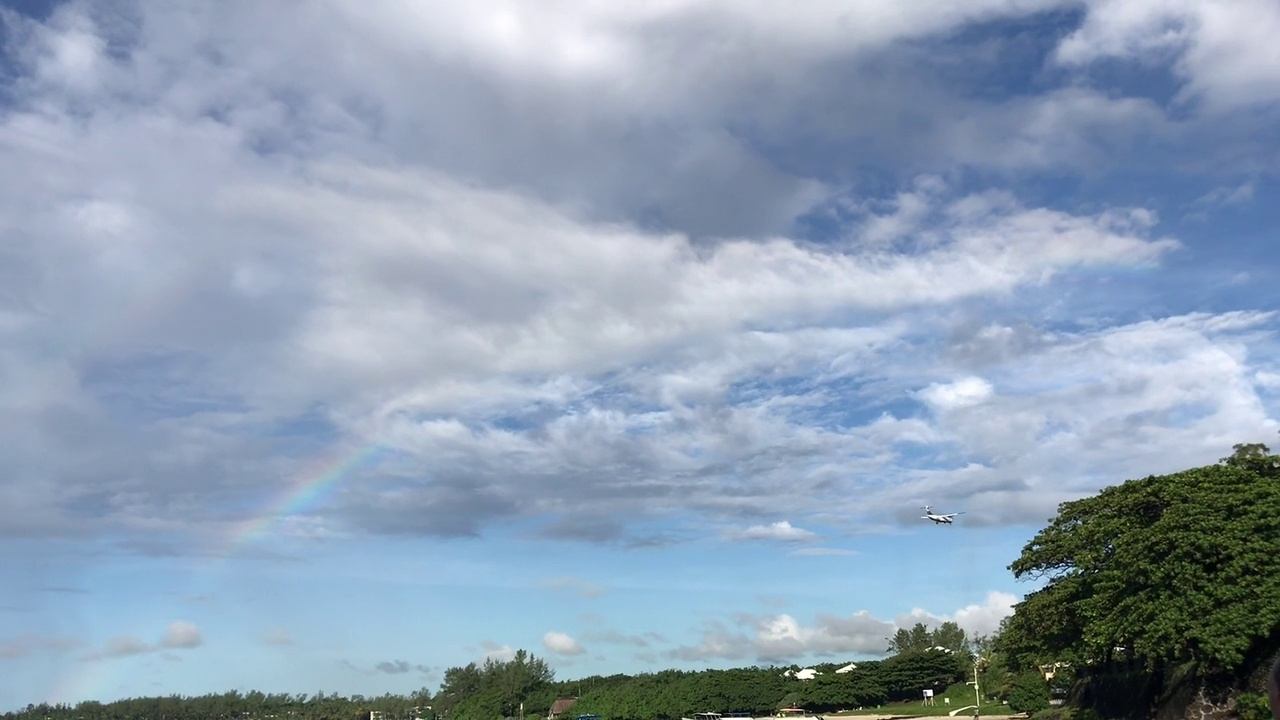plane: (918, 503, 966, 524)
